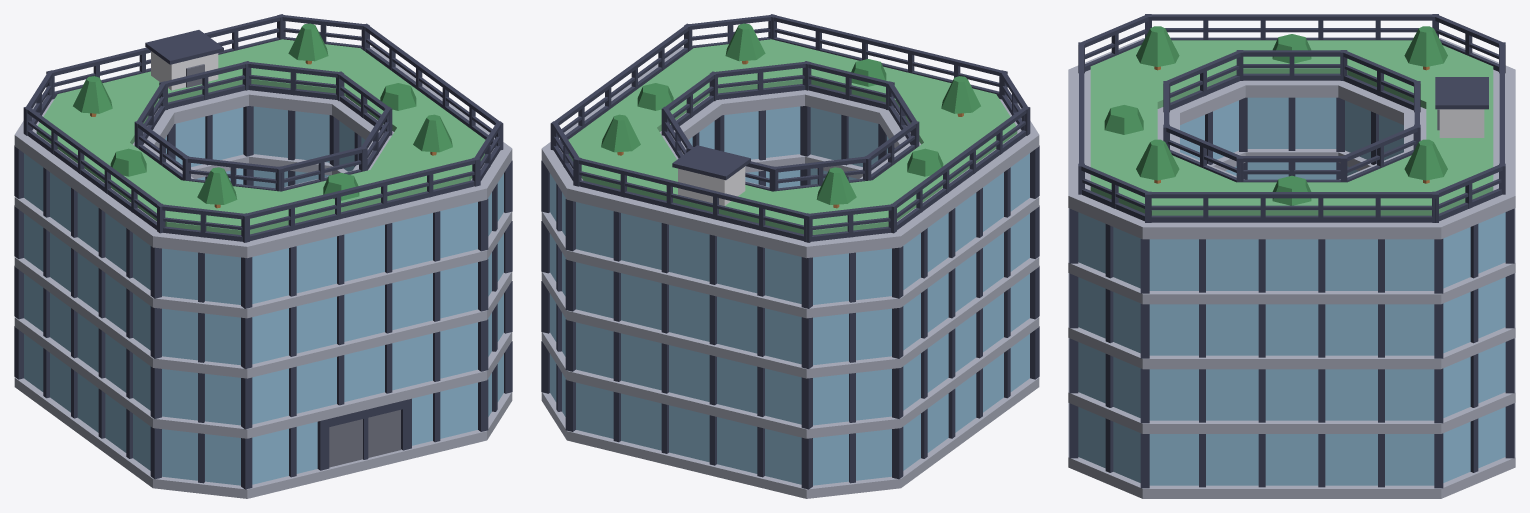
Rendered from office-octagon-2x2-t3-tone-a.glb.
The picture shows the model from 3 angles, left to right: view 1: azimuth 30°, elevation 25°; view 2: azimuth 150°, elevation 25°; view 3: azimuth 270°, elevation 25°; orthographic projection. The views are drawn at different scales.
Parts seen in each view (by area): view 1: office-octagon-2x2-t3-tone-a; view 2: office-octagon-2x2-t3-tone-a; view 3: office-octagon-2x2-t3-tone-a.
Part boxes in pixels (x1,y1,x2,y2): office-octagon-2x2-t3-tone-a: [14, 14, 512, 498]; office-octagon-2x2-t3-tone-a: [541, 14, 1039, 498]; office-octagon-2x2-t3-tone-a: [1068, 14, 1515, 498].
Size of the model in its own units: 2 by 1.57 by 2.
1 material, 1 textured.
